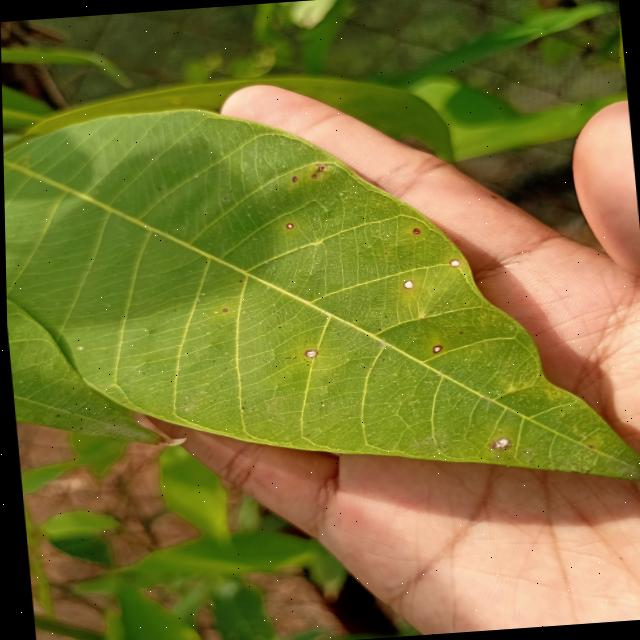Colletotrichum: (303, 348, 316, 358), (447, 258, 460, 268), (401, 278, 412, 288), (431, 345, 441, 353), (411, 228, 419, 234), (285, 222, 292, 228), (291, 176, 297, 182), (311, 174, 315, 178), (221, 308, 225, 311)
